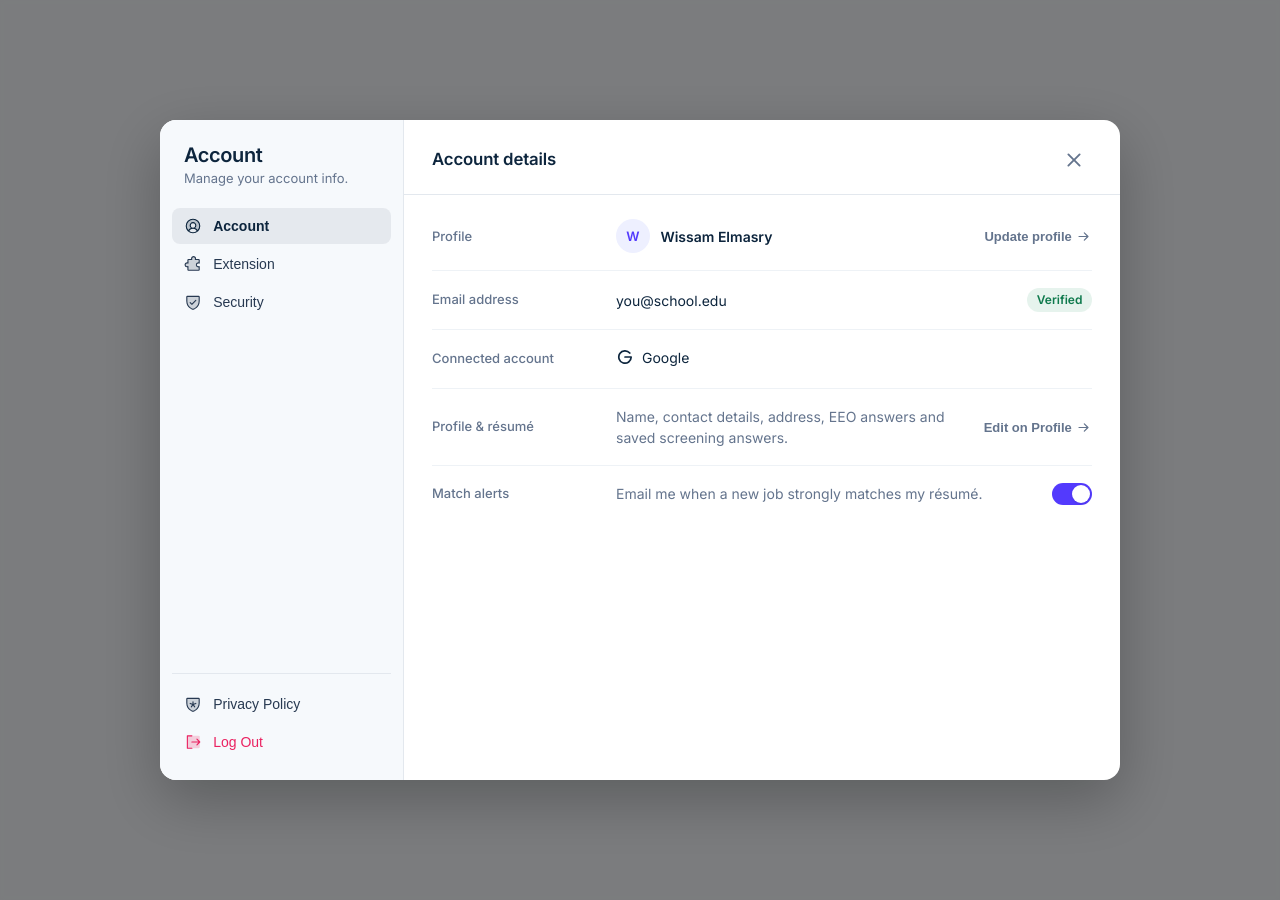
Test: SettingsModal › keeps the save bar mounted when an unsaved toggle survives a tab switch
The width and height of the screenshot is (1280, 900).
Step 1. Click the button "Extension" → point(282, 264), box left=172, top=246, right=391, bottom=282
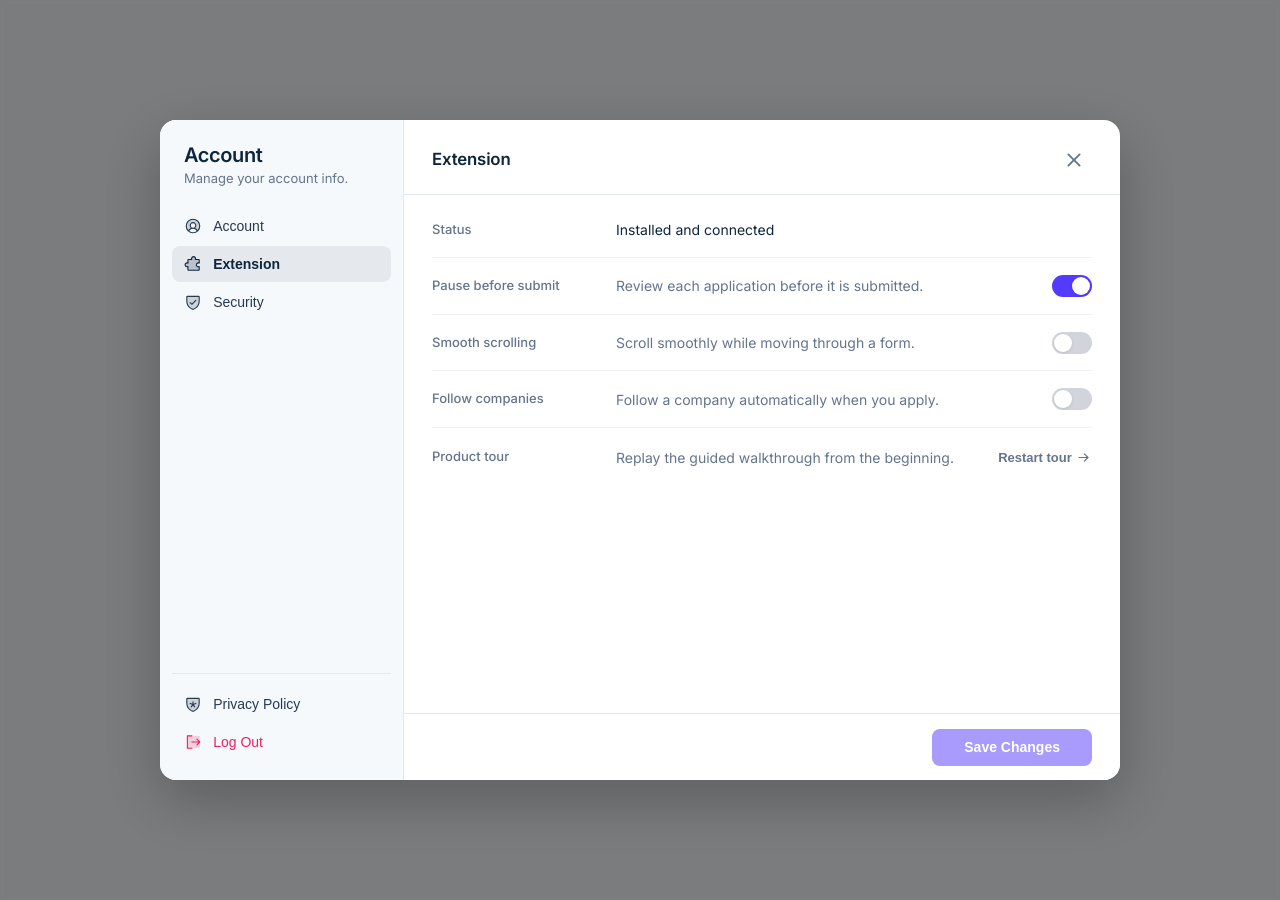
Step 2. Click the checkbox named "Smooth scrolling" → point(1072, 343), box left=1052, top=332, right=1092, bottom=354
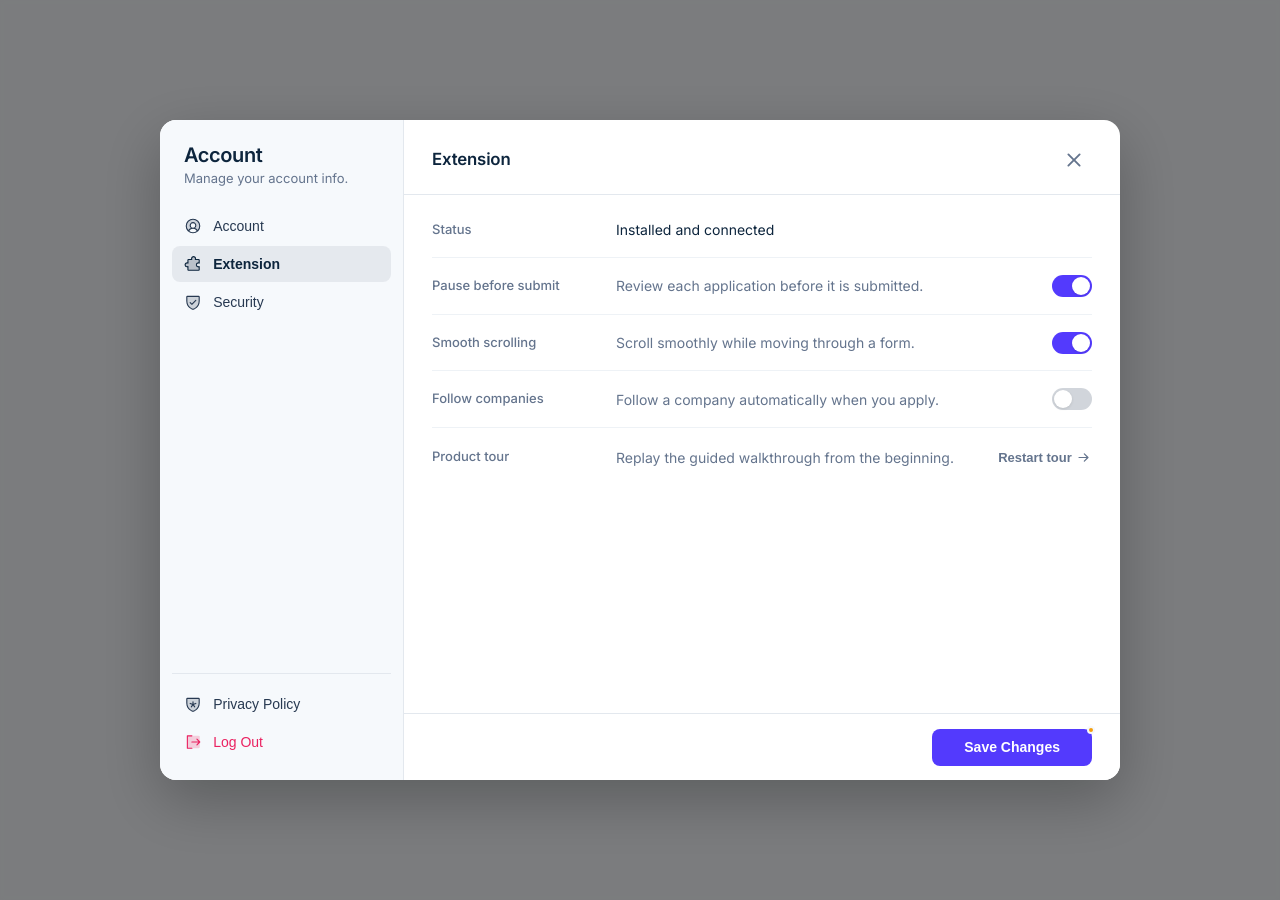
Step 3. Click the button "Account" → point(282, 226), box left=172, top=208, right=391, bottom=244
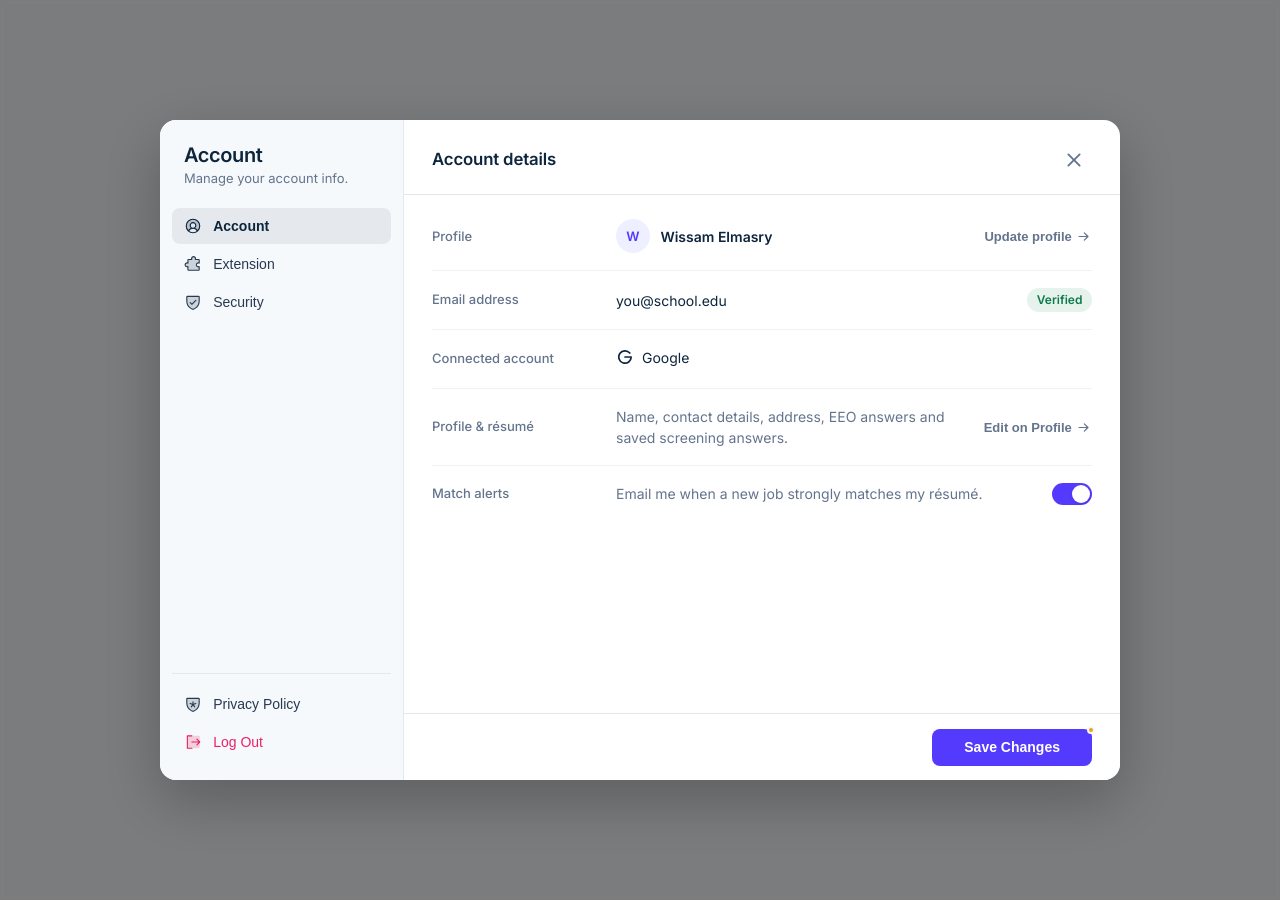
expect the button "Save Changes" is enabled: met, box left=932, top=729, right=1092, bottom=766
expect the text "you@school.edu" is shown: met, box left=616, top=292, right=727, bottom=309
